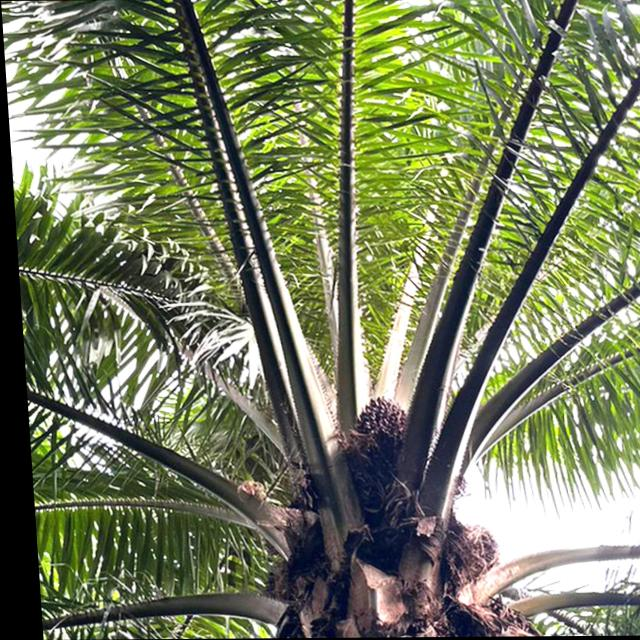ripe: (339, 380, 415, 465)
